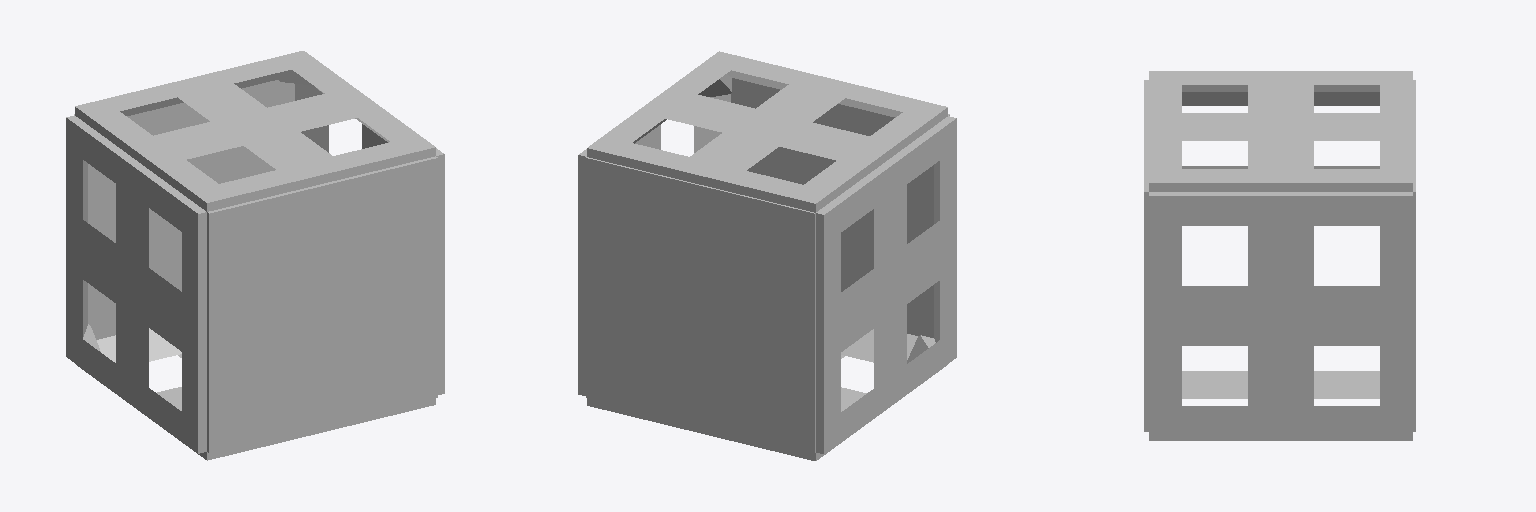
The model's file is STAGE(2)_Edit_OF_0102.obj.
3 renders of one model, left to right at view 1: azimuth 30°, elevation 25°; view 2: azimuth 150°, elevation 25°; view 3: azimuth 270°, elevation 25°, orthographic.
Visible parts, largest first — view 1: 立方体; view 2: 立方体; view 3: 立方体.
Boxes of the visible parts, x1=… form: 立方体: x1=66, y1=51, x2=444, y2=460; 立方体: x1=578, y1=51, x2=956, y2=460; 立方体: x1=1144, y1=71, x2=1415, y2=440.
Bounding box in the file's own units: 43 × 43 × 41.